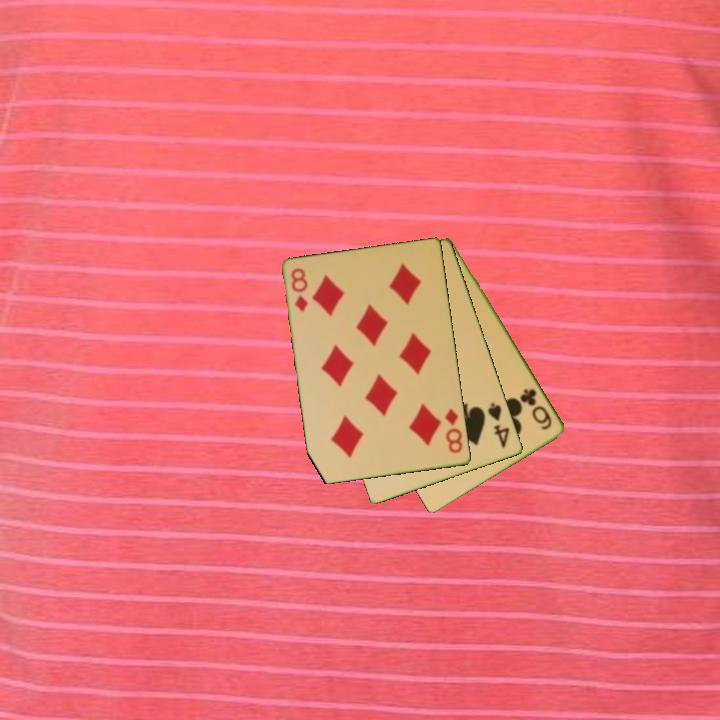4s: (485, 399, 513, 451)
6c: (517, 385, 555, 433)
8d: (442, 405, 466, 456), (288, 265, 311, 315)
